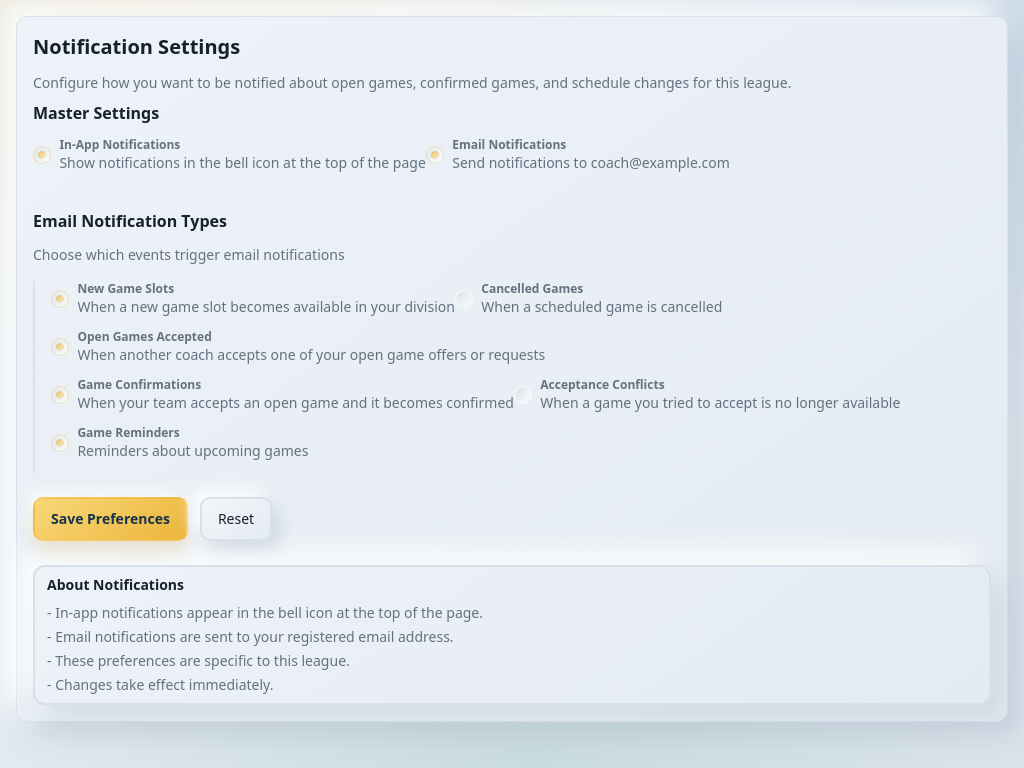
Test: NotificationSettingsPage › saves preferences and clears the success timer on unmount
This screenshot has width=1024, height=768.
Expected: the text "Master Settings" is shown, [33,102,159,124]
Click the button "Save Preferences": (110,519) [33,497,188,541]
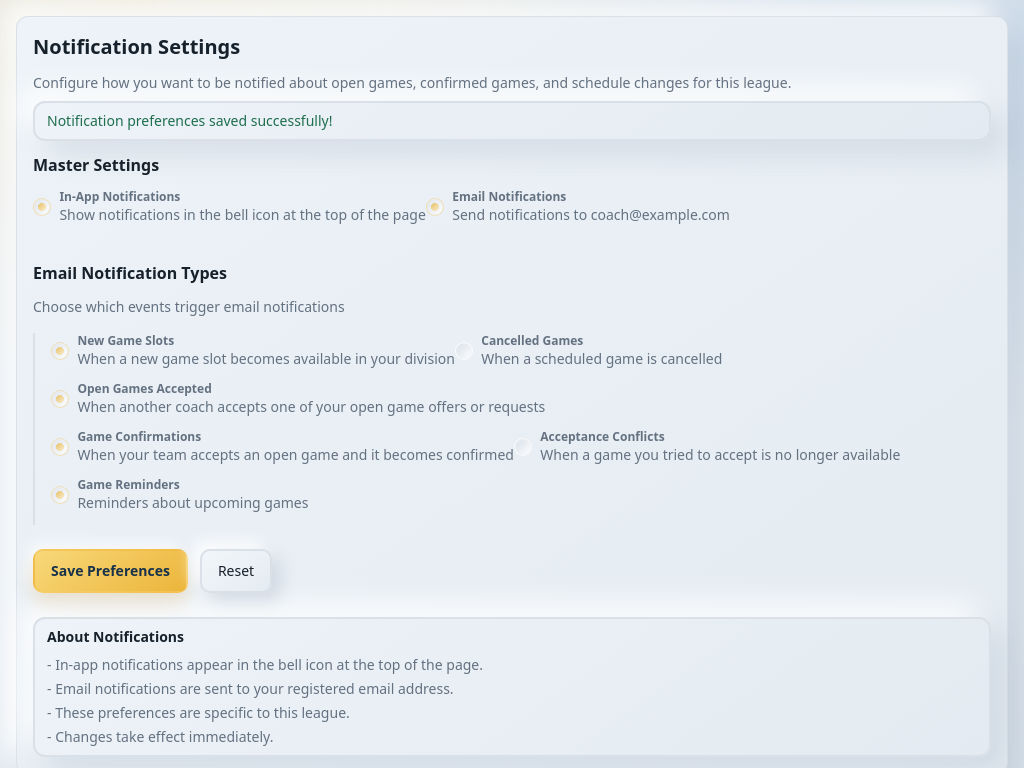
Expected: the text "Notification preferences saved successfully!" is shown, [33,101,991,141]
